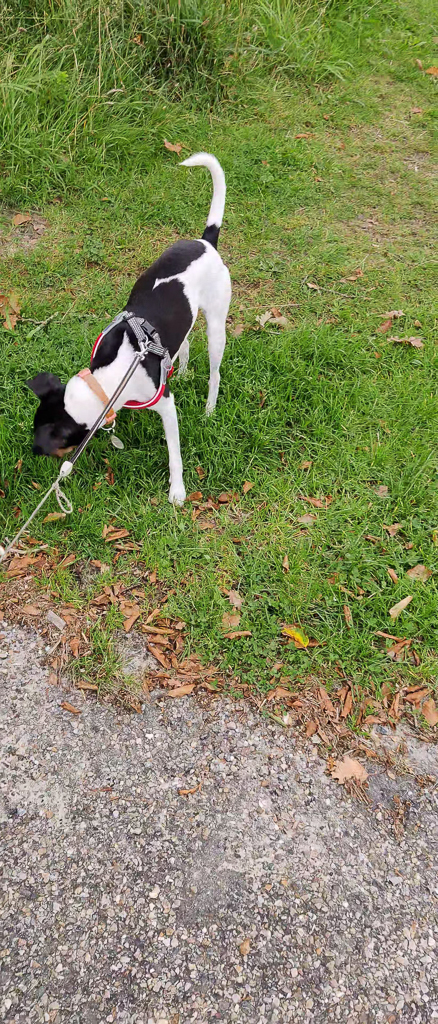Dog: (9, 134, 257, 520)
